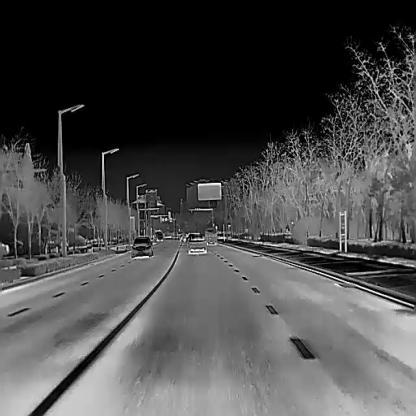car: (187, 230, 207, 254), (131, 236, 153, 257), (205, 225, 216, 243), (155, 230, 163, 241)
